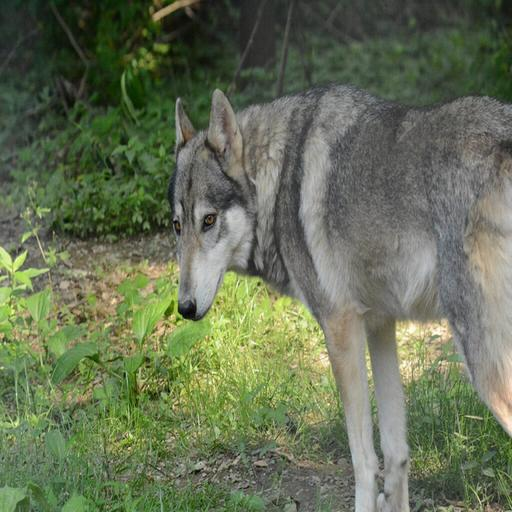Wolf: (170, 90, 512, 510)
